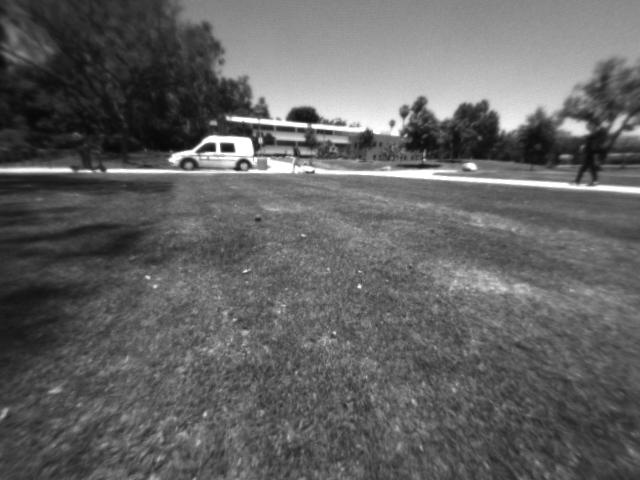dogtoy: (250, 210, 267, 226)
